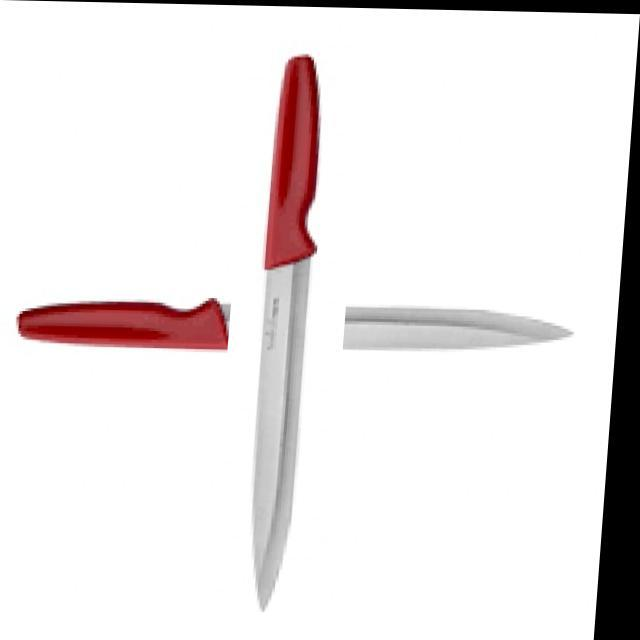knife: (250, 52, 321, 612), (15, 297, 573, 354)
